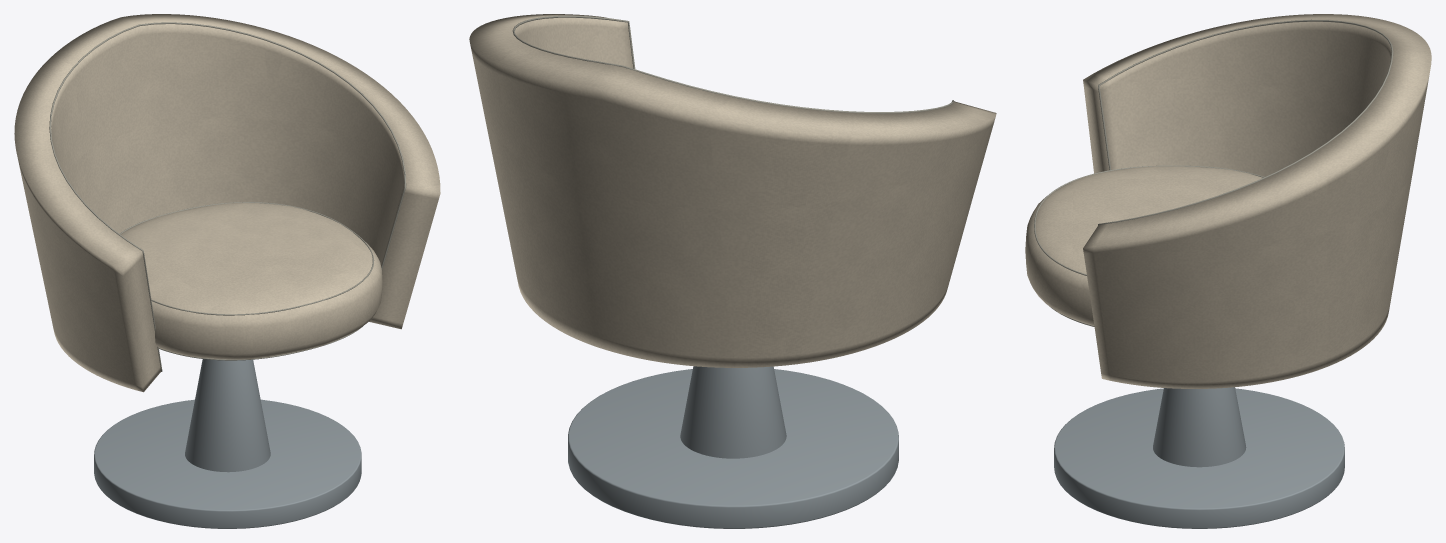
Rendered from reading-chair.glb.
The picture shows the model from 3 angles, left to right: view 1: azimuth 30°, elevation 25°; view 2: azimuth 150°, elevation 25°; view 3: azimuth 270°, elevation 25°; orthographic projection. The views are drawn at different scales.
Parts seen in each view (by area): view 1: Boucle | sculpted open shell, Boucle | oval loose seat, Aluminum | circular pedestal foot, Aluminum | sculpted tapered pedestal, Boucle | tailored shell edge, Boucle | oval loose seat | upper tailored welt; view 2: Boucle | sculpted open shell, Aluminum | circular pedestal foot, Aluminum | sculpted tapered pedestal, Boucle | tailored shell edge; view 3: Boucle | sculpted open shell, Aluminum | circular pedestal foot, Boucle | oval loose seat, Aluminum | sculpted tapered pedestal, Boucle | tailored shell edge, Boucle | oval loose seat | upper tailored welt.
Boxes of the visible parts, x1=… form: Boucle | sculpted open shell: x1=14, y1=14, x2=440, y2=392; Boucle | oval loose seat: x1=120, y1=202, x2=382, y2=359; Aluminum | circular pedestal foot: x1=94, y1=399, x2=361, y2=528; Aluminum | sculpted tapered pedestal: x1=185, y1=359, x2=270, y2=472; Boucle | tailored shell edge: x1=49, y1=22, x2=406, y2=371; Boucle | oval loose seat | upper tailored welt: x1=120, y1=202, x2=374, y2=315; Boucle | sculpted open shell: x1=469, y1=14, x2=996, y2=367; Aluminum | circular pedestal foot: x1=568, y1=369, x2=898, y2=528; Aluminum | sculpted tapered pedestal: x1=680, y1=366, x2=786, y2=458; Boucle | tailored shell edge: x1=512, y1=15, x2=953, y2=113; Boucle | sculpted open shell: x1=1083, y1=14, x2=1431, y2=388; Aluminum | circular pedestal foot: x1=1054, y1=388, x2=1344, y2=528; Boucle | oval loose seat: x1=1025, y1=166, x2=1262, y2=325; Aluminum | sculpted tapered pedestal: x1=1153, y1=387, x2=1246, y2=467; Boucle | tailored shell edge: x1=1098, y1=19, x2=1393, y2=225; Boucle | oval loose seat | upper tailored welt: x1=1034, y1=165, x2=1264, y2=275.
Size of the model in its own units: 0.9839 by 0.9759 by 0.863.
Materials: 4 (1 with a texture image).
